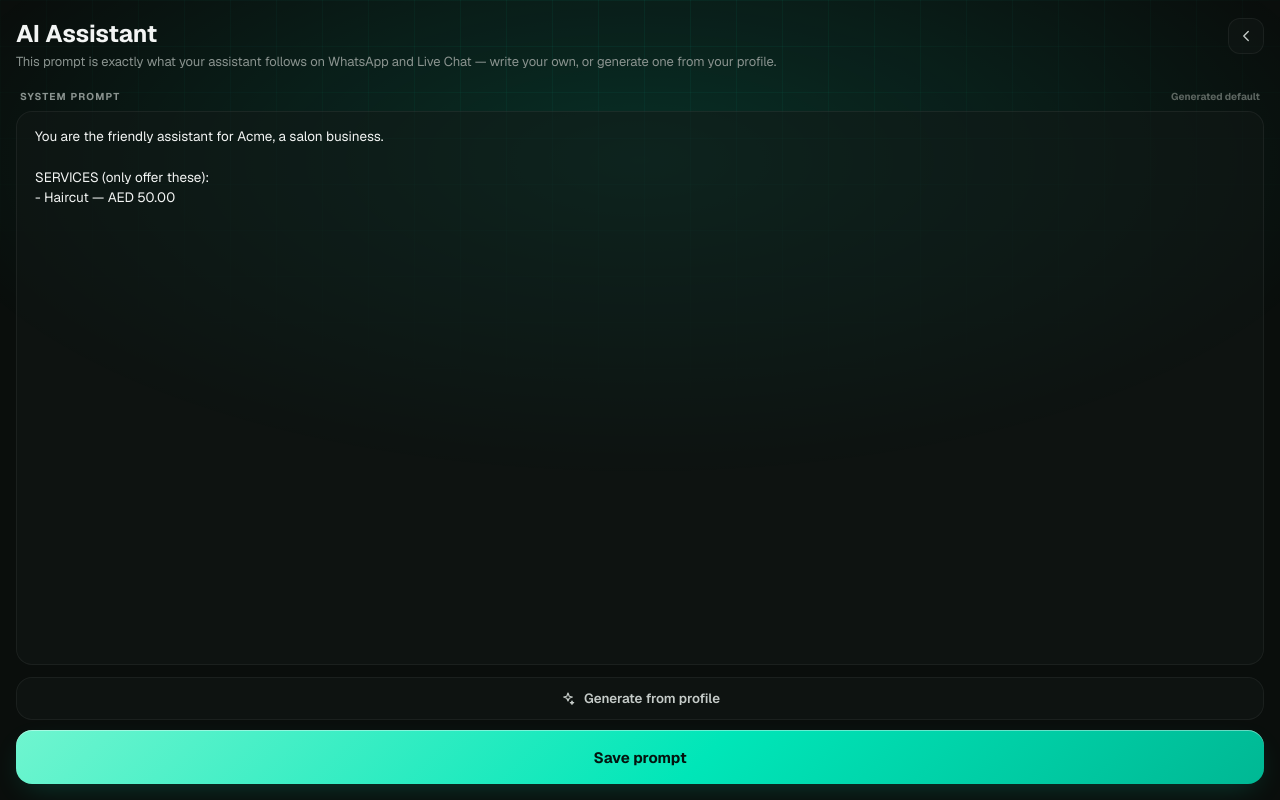
Test: Assistant › saves a custom prompt
Replace the text in the text box named "System prompt" with "You are Bella." at (640, 388), box x1=33 y1=124 x2=1247 y2=652
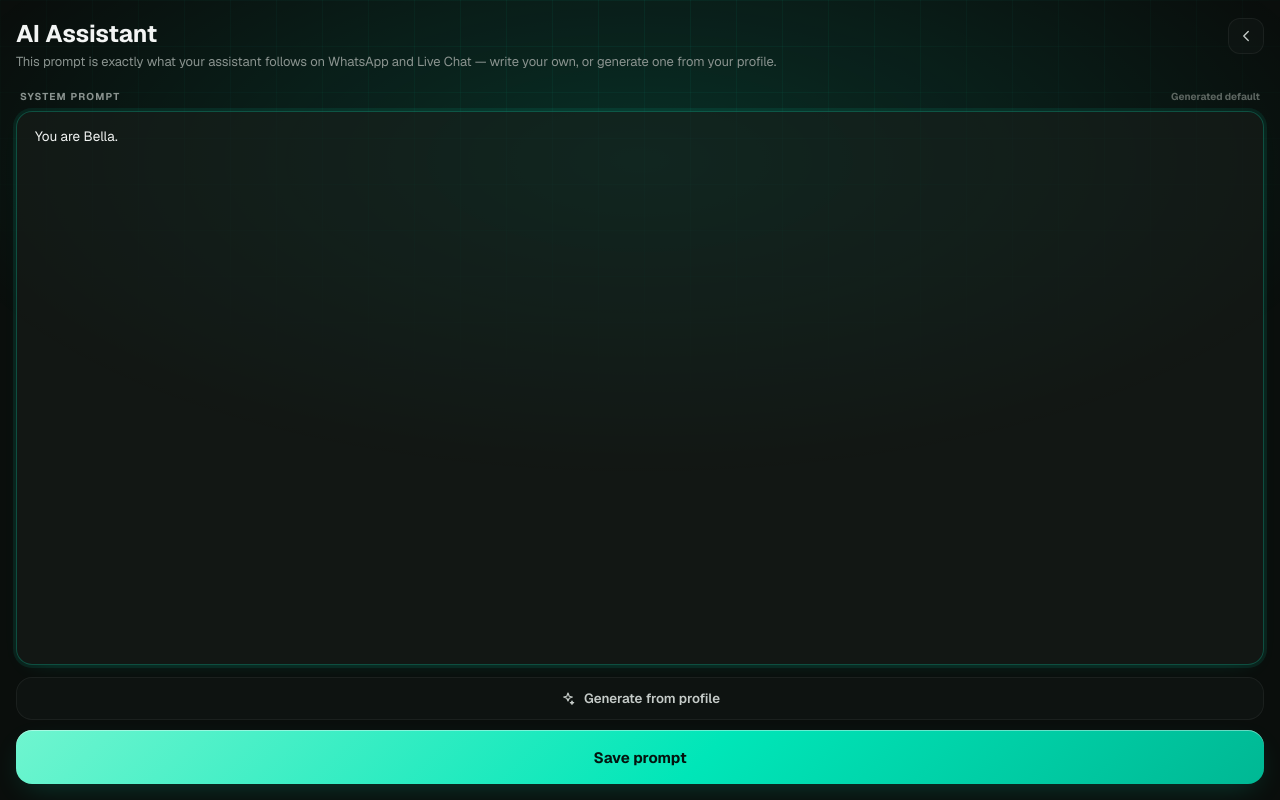
Click the button "Save prompt" at (640, 757), box x1=16 y1=730 x2=1264 y2=784
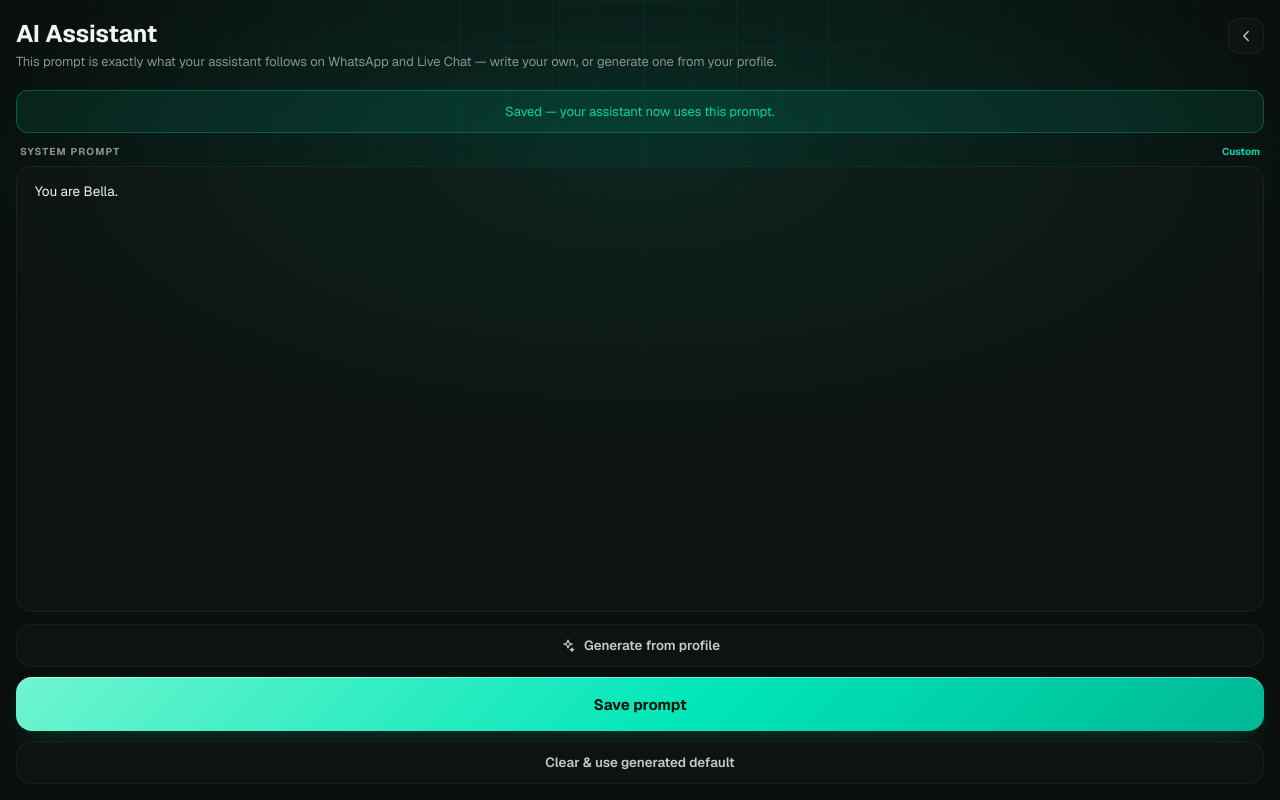
Expected: the text "Saved — your assistant now uses this prompt." is shown, x1=16 y1=90 x2=1264 y2=133
Expected: the text "Custom" is shown, x1=1222 y1=145 x2=1260 y2=158
Expected: the button "Clear & use generated default" is shown, x1=16 y1=741 x2=1264 y2=784
